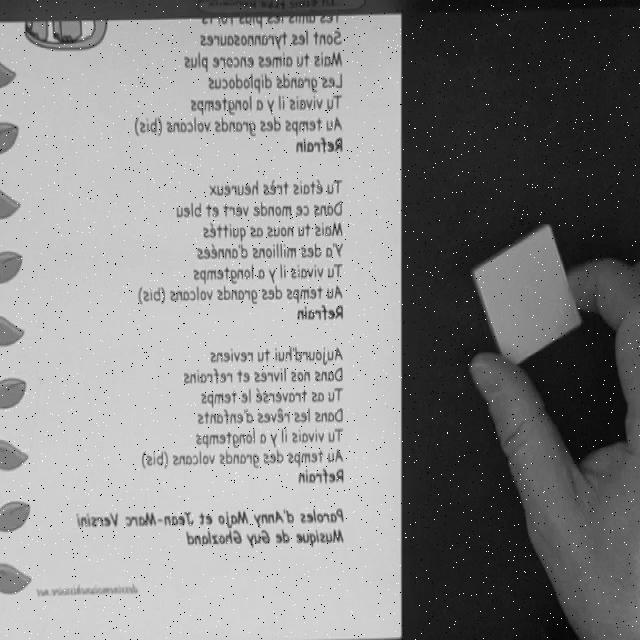square: (472, 224, 582, 370)
